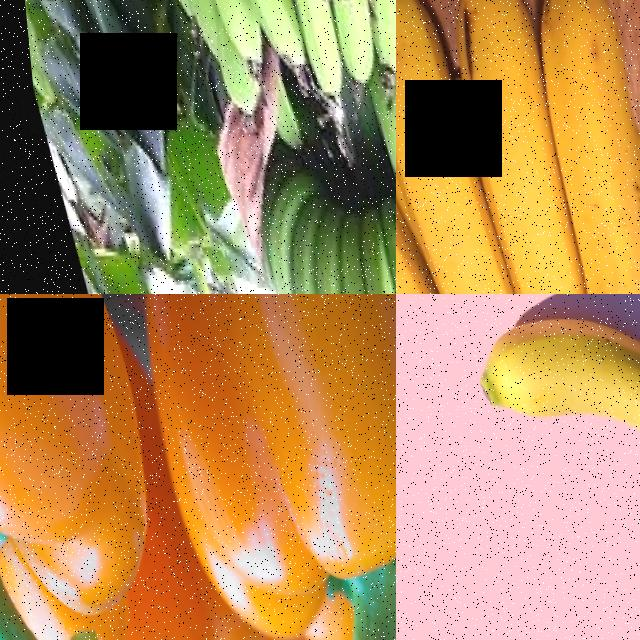banana: (427, 294, 640, 640), (396, 0, 640, 294), (167, 0, 396, 127), (225, 168, 396, 294), (344, 0, 396, 272)
bell pepper: (75, 294, 396, 640), (0, 294, 211, 640)
